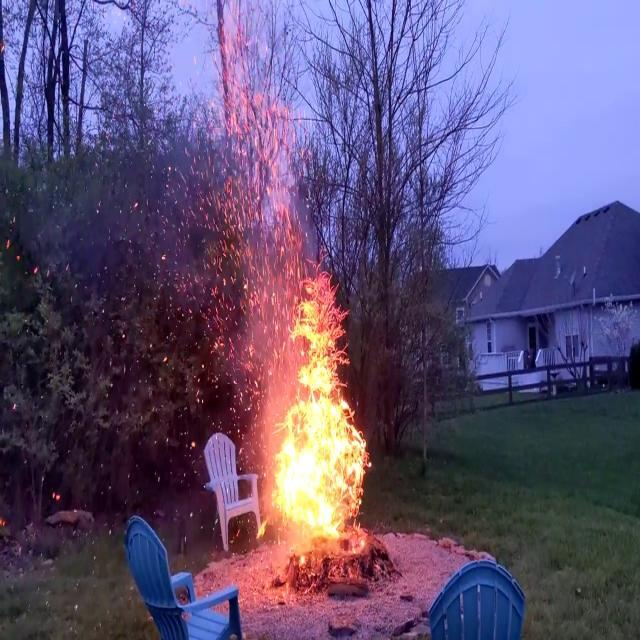Fire: (258, 270, 376, 547)
